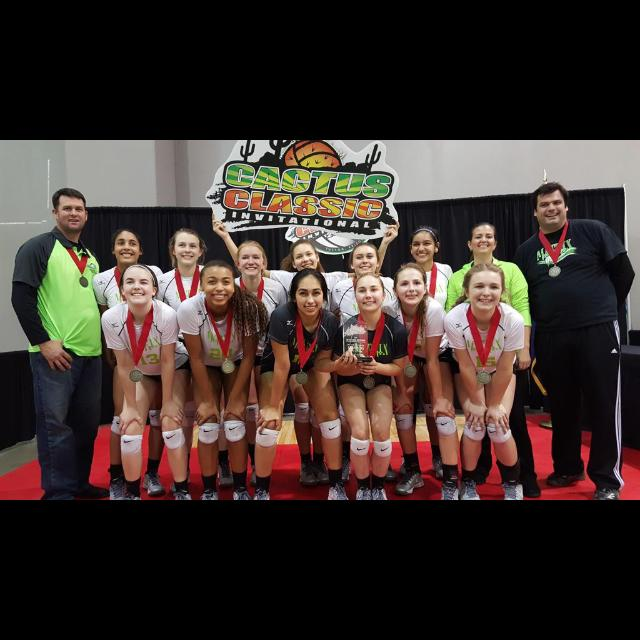head: (464, 262, 506, 312), (199, 260, 237, 308), (119, 264, 160, 308), (292, 268, 328, 318), (532, 183, 570, 227), (51, 189, 89, 231), (392, 264, 428, 308), (111, 228, 145, 266), (172, 228, 204, 268), (354, 272, 386, 312), (235, 239, 267, 275), (411, 228, 442, 264), (467, 222, 499, 256), (291, 240, 321, 276), (350, 244, 380, 276)
person: (209, 210, 401, 490), (327, 239, 411, 486), (217, 237, 289, 495), (392, 223, 460, 482)
